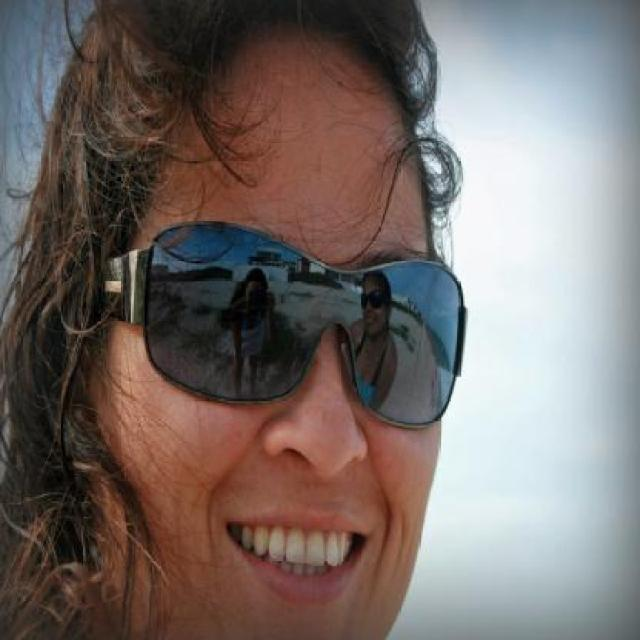face_nomask: (158, 219, 434, 610)
glasses: (100, 218, 468, 430)
head_nohelmet: (84, 0, 418, 157)
